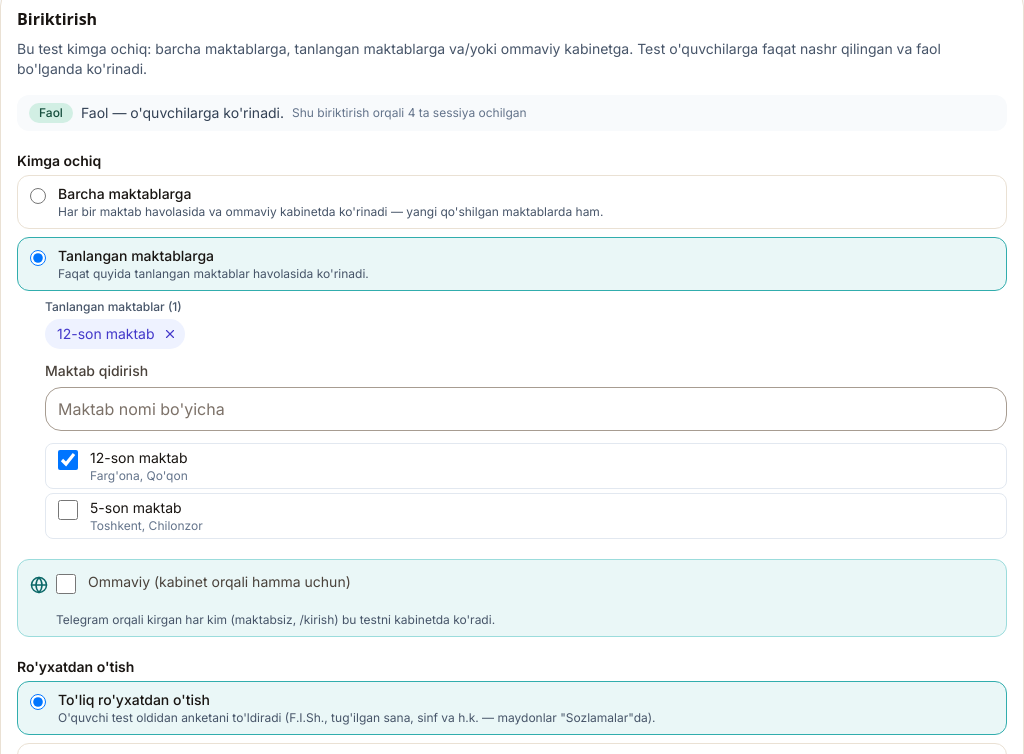
Test: TestAssignmentCard › PUBLIC_SPACE_NOT_CONFIGURED bo'lsa tushunarli xabar chiqadi
This screenshot has width=1024, height=754.
Click the checkbox labelled "Ommaviy (kabinet orqali hamma uchun)" at [66, 584], box [56,574,76,594]
(page scrolled)
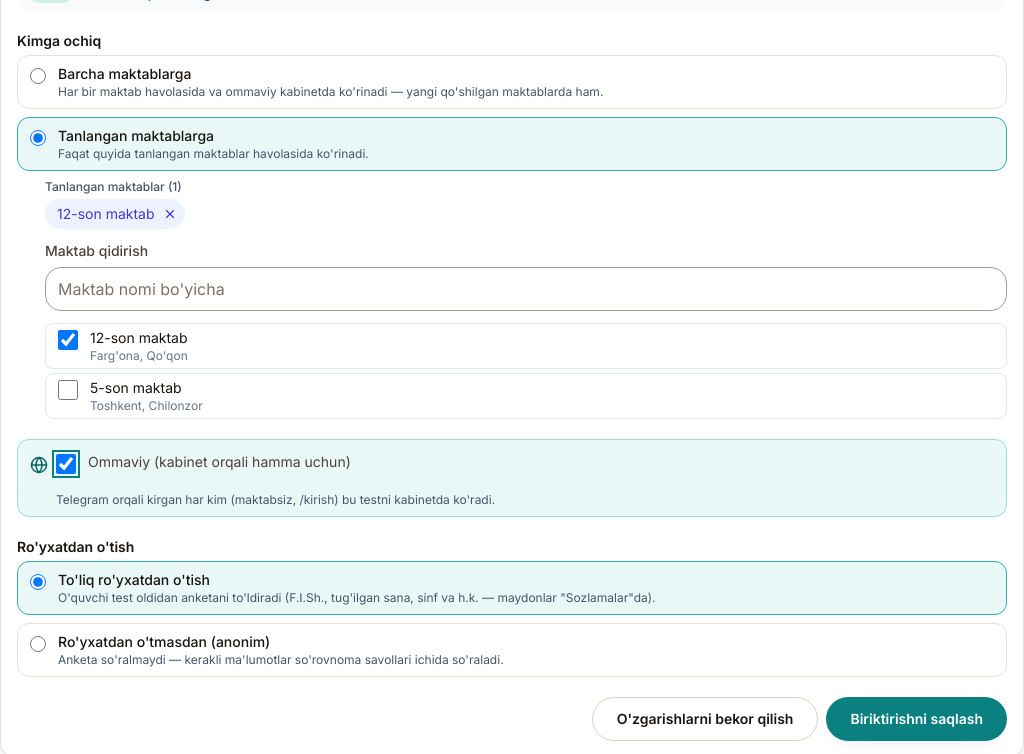
Click the button "Biriktirishni saqlash" at [917, 719], box [826,697,1007,741]
(page scrolled)
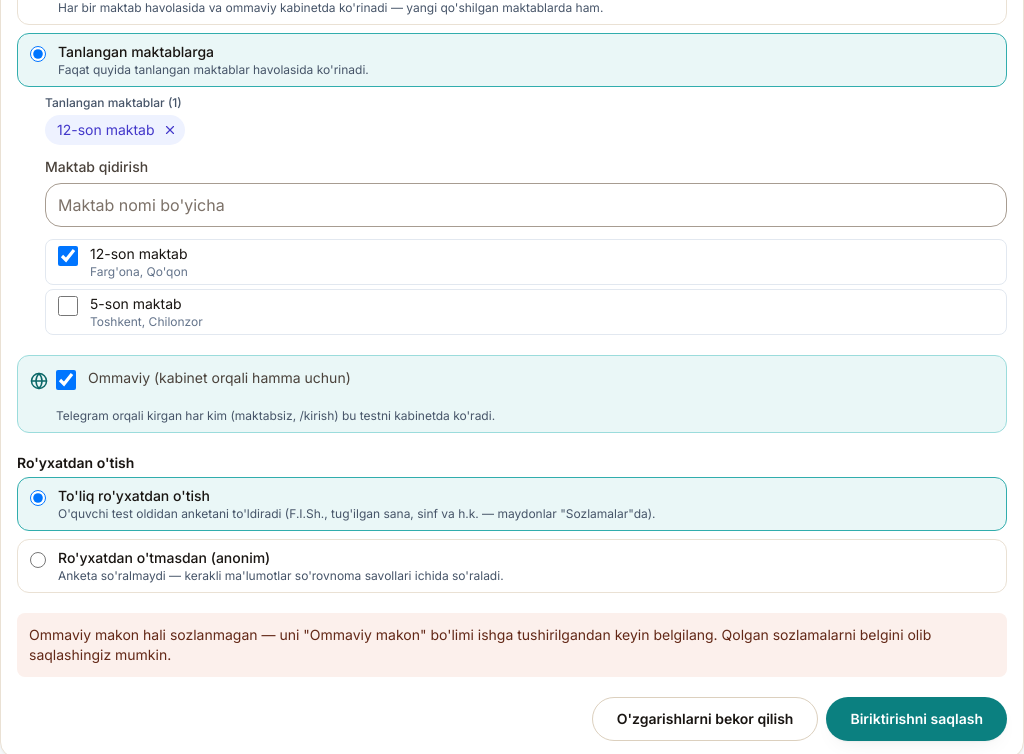
expect the message with test id "assignment-error" does not show "PUBLIC_SPACE_NOT_CONFIGURED": met, box [17,613,1007,677]
expect the message with test id "assignment-error" shows "Ommaviy makon hali sozlanmagan": met, box [29,626,931,663]
